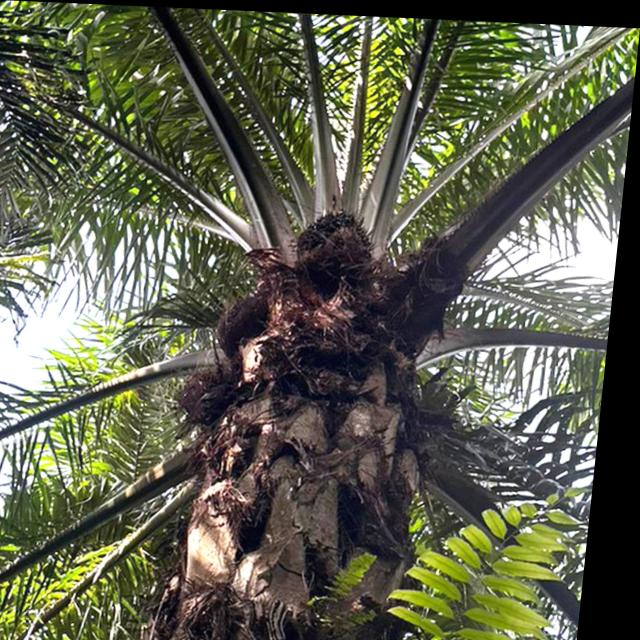unripe: (296, 203, 385, 274), (213, 284, 278, 353)
